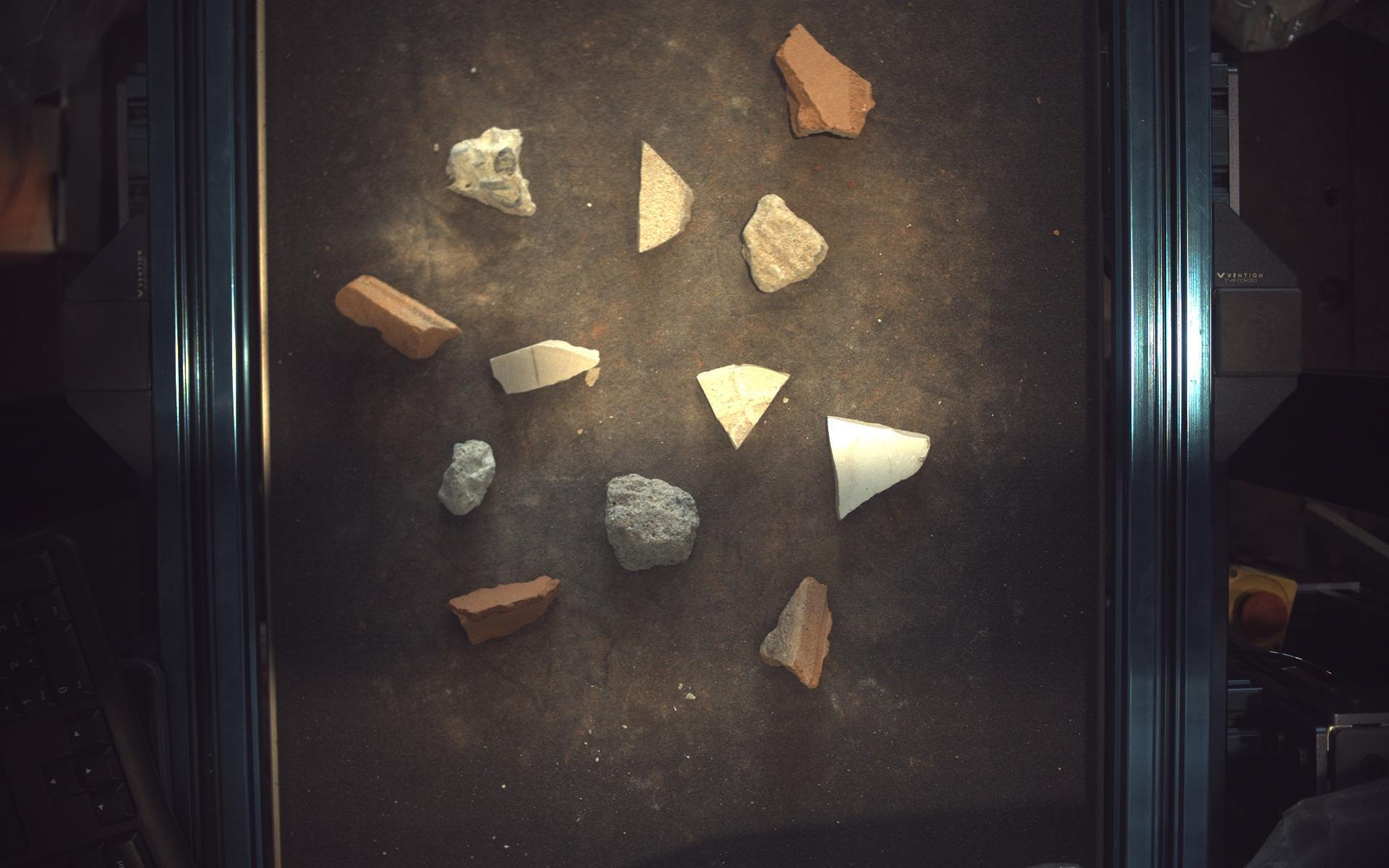brick: (776, 22, 877, 137), (335, 275, 460, 359), (761, 577, 833, 690), (448, 576, 560, 645)
concrete: (606, 474, 701, 571), (743, 193, 830, 293), (446, 126, 536, 216), (438, 440, 496, 516)
tile: (830, 417, 931, 519), (698, 364, 791, 448), (640, 141, 694, 252), (490, 339, 600, 393)
